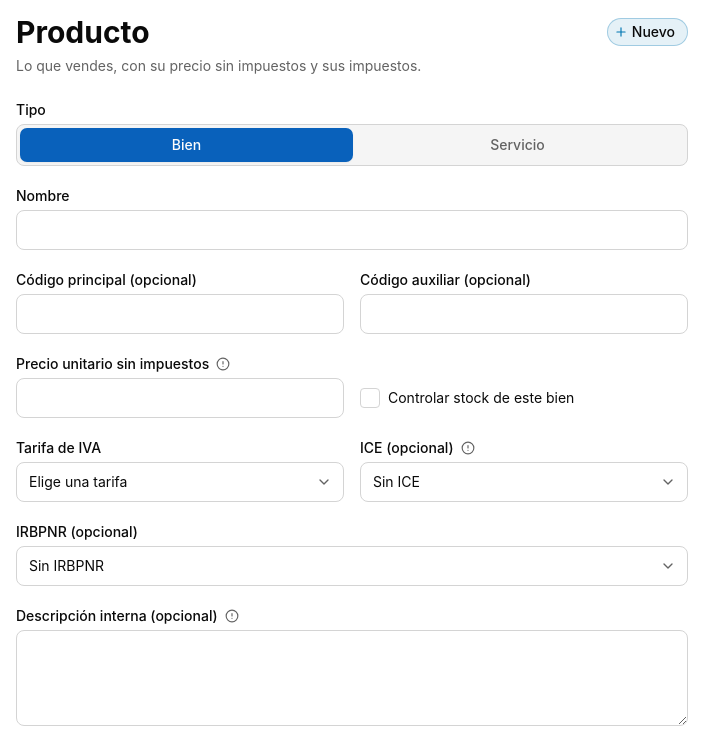
it: página del formulario de producto › un servicio no ofrece IRBPNR ni control de stock
Expected: the dropdown labelled "IRBPNR (opcional)" is shown, [16,546,688,586]
Expected: the checkbox labelled "Controlar stock de este bien" is shown, [360,388,380,408]
Click the radio button labelled "Servicio" at (518, 145), box [352,129,683,161]
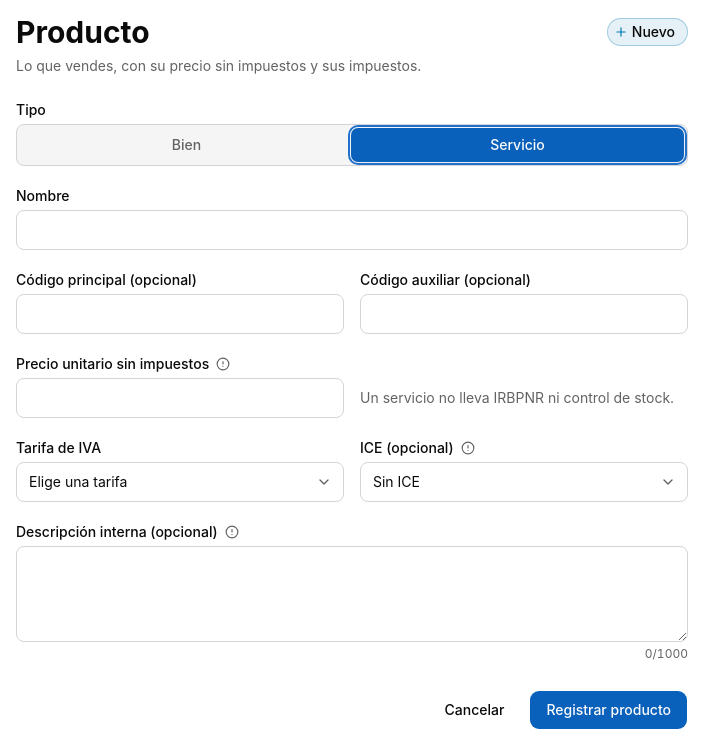
Now the label labelled "IRBPNR (opcional)" is gone
Now the label labelled "Controlar stock de este bien" is gone
Now the text "Un servicio no lleva IRBPNR ni control de stock." is shown, box [360,389,674,406]
